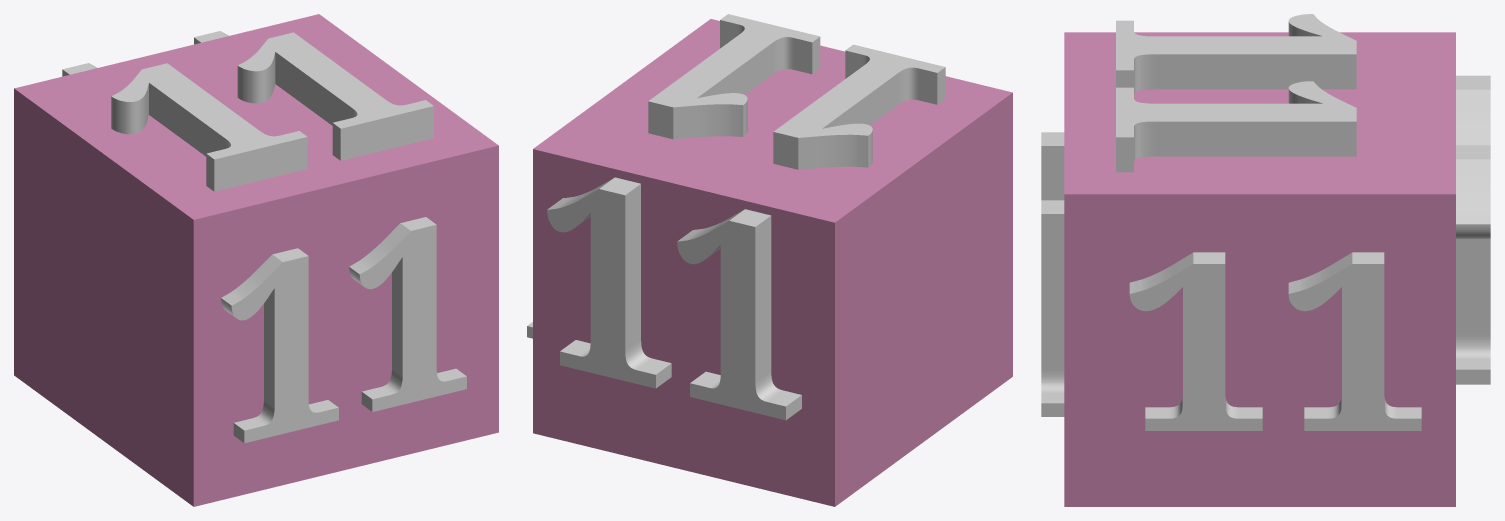
File: number11.glb
The picture shows the model from 3 angles, left to right: view 1: azimuth 30°, elevation 25°; view 2: azimuth 150°, elevation 25°; view 3: azimuth 270°, elevation 25°; orthographic projection. The views are drawn at different scales.
Parts seen in each view (by area): view 1: Mesh_Mesh_head_geo.001_lambert2SG.001; view 2: Mesh_Mesh_head_geo.001_lambert2SG.001; view 3: Mesh_Mesh_head_geo.001_lambert2SG.001.
Part boxes in pixels (bbox=[...]): Mesh_Mesh_head_geo.001_lambert2SG.001: bbox=[14, 14, 498, 506]; Mesh_Mesh_head_geo.001_lambert2SG.001: bbox=[527, 14, 1012, 506]; Mesh_Mesh_head_geo.001_lambert2SG.001: bbox=[1041, 14, 1490, 506].
Bounding box in the file's own units: 0.106 × 0.099 × 0.116.
